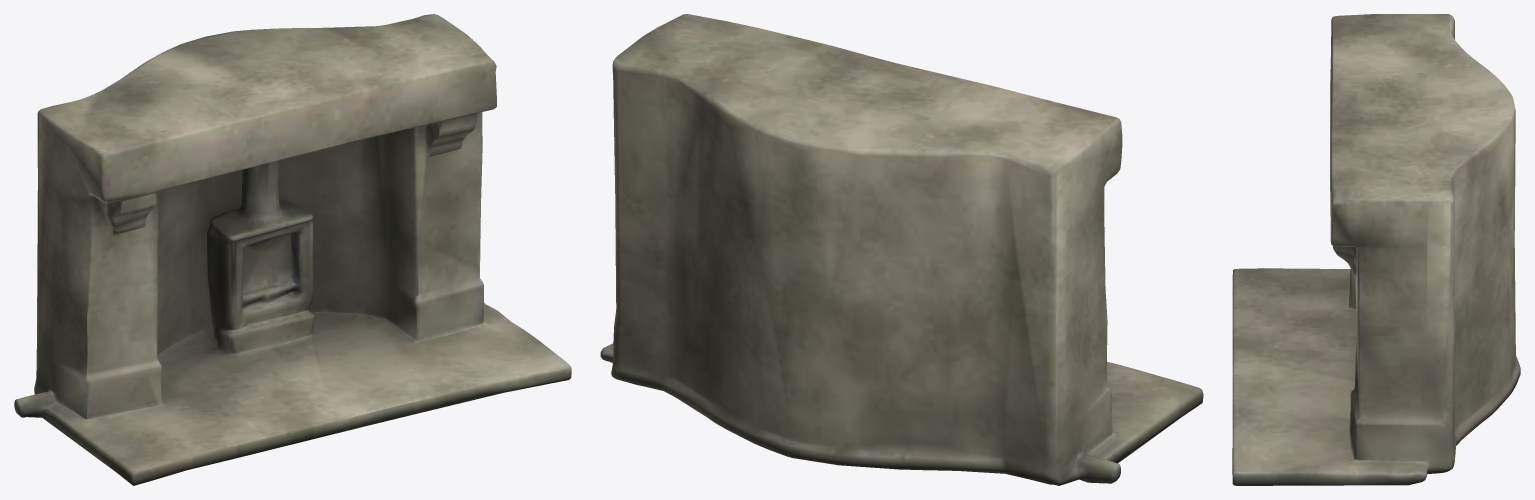
File: plain-limestone-fireplace-v001.glb
The picture shows the model from 3 angles, left to right: view 1: azimuth 30°, elevation 25°; view 2: azimuth 150°, elevation 25°; view 3: azimuth 270°, elevation 25°; orthographic projection. The views are drawn at different scales.
Visible parts, largest first — view 1: plain-limestone-fireplace; view 2: plain-limestone-fireplace; view 3: plain-limestone-fireplace.
Boxes of the visible parts, bbox=[...] form: plain-limestone-fireplace: bbox=[14, 14, 571, 485]; plain-limestone-fireplace: bbox=[600, 14, 1203, 485]; plain-limestone-fireplace: bbox=[1232, 14, 1520, 485].
Size of the model in its own units: 2.84 by 1.72 by 1.61.
Materials: 1 (1 with a texture image).
